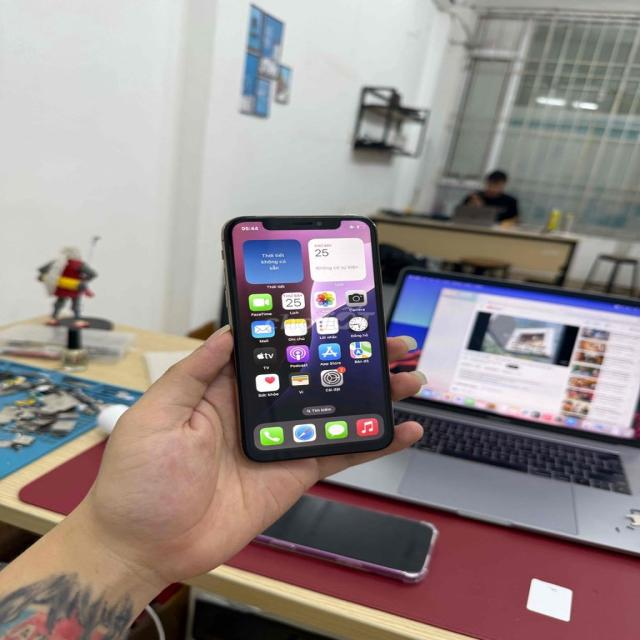gen_x_xs: (220, 212, 396, 458)
